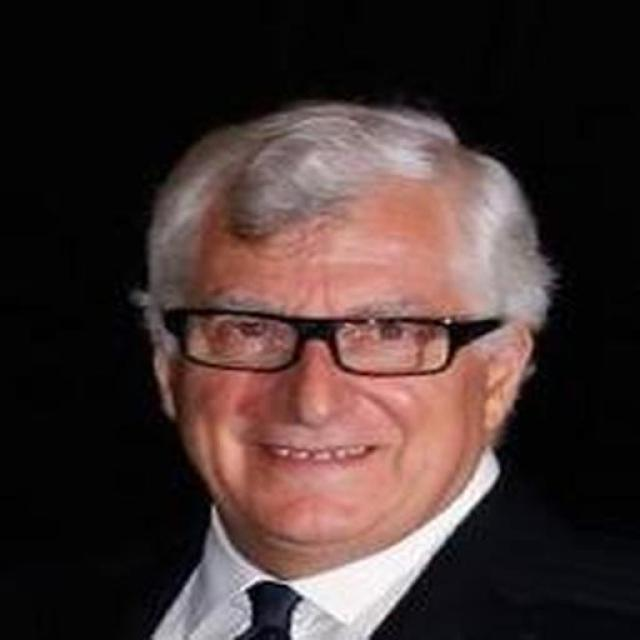bareface: (116, 76, 528, 518)
